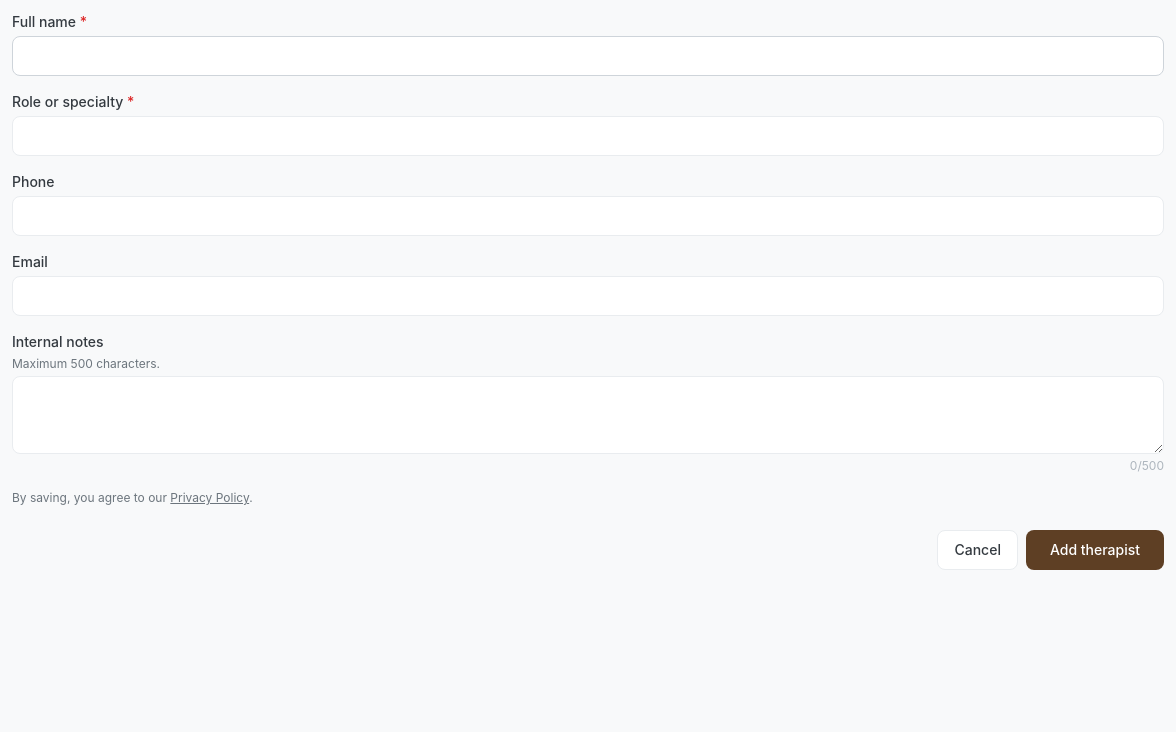
Test: TherapistForm › validation — empty name › shows name required error on submit
Step 1. Click the button "Add therapist" → x=1095, y=550, box x1=1026 y1=530 x2=1164 y2=570
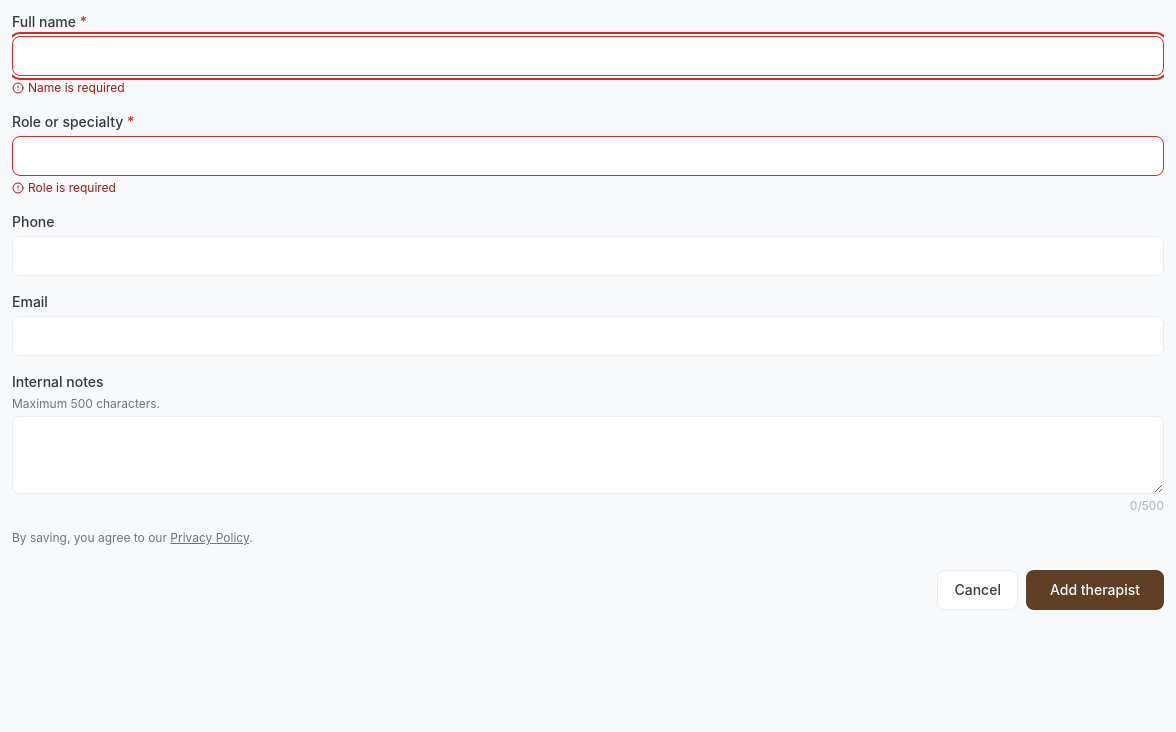
Result: the text "Name is required" is shown at x1=12 y1=80 x2=125 y2=95
